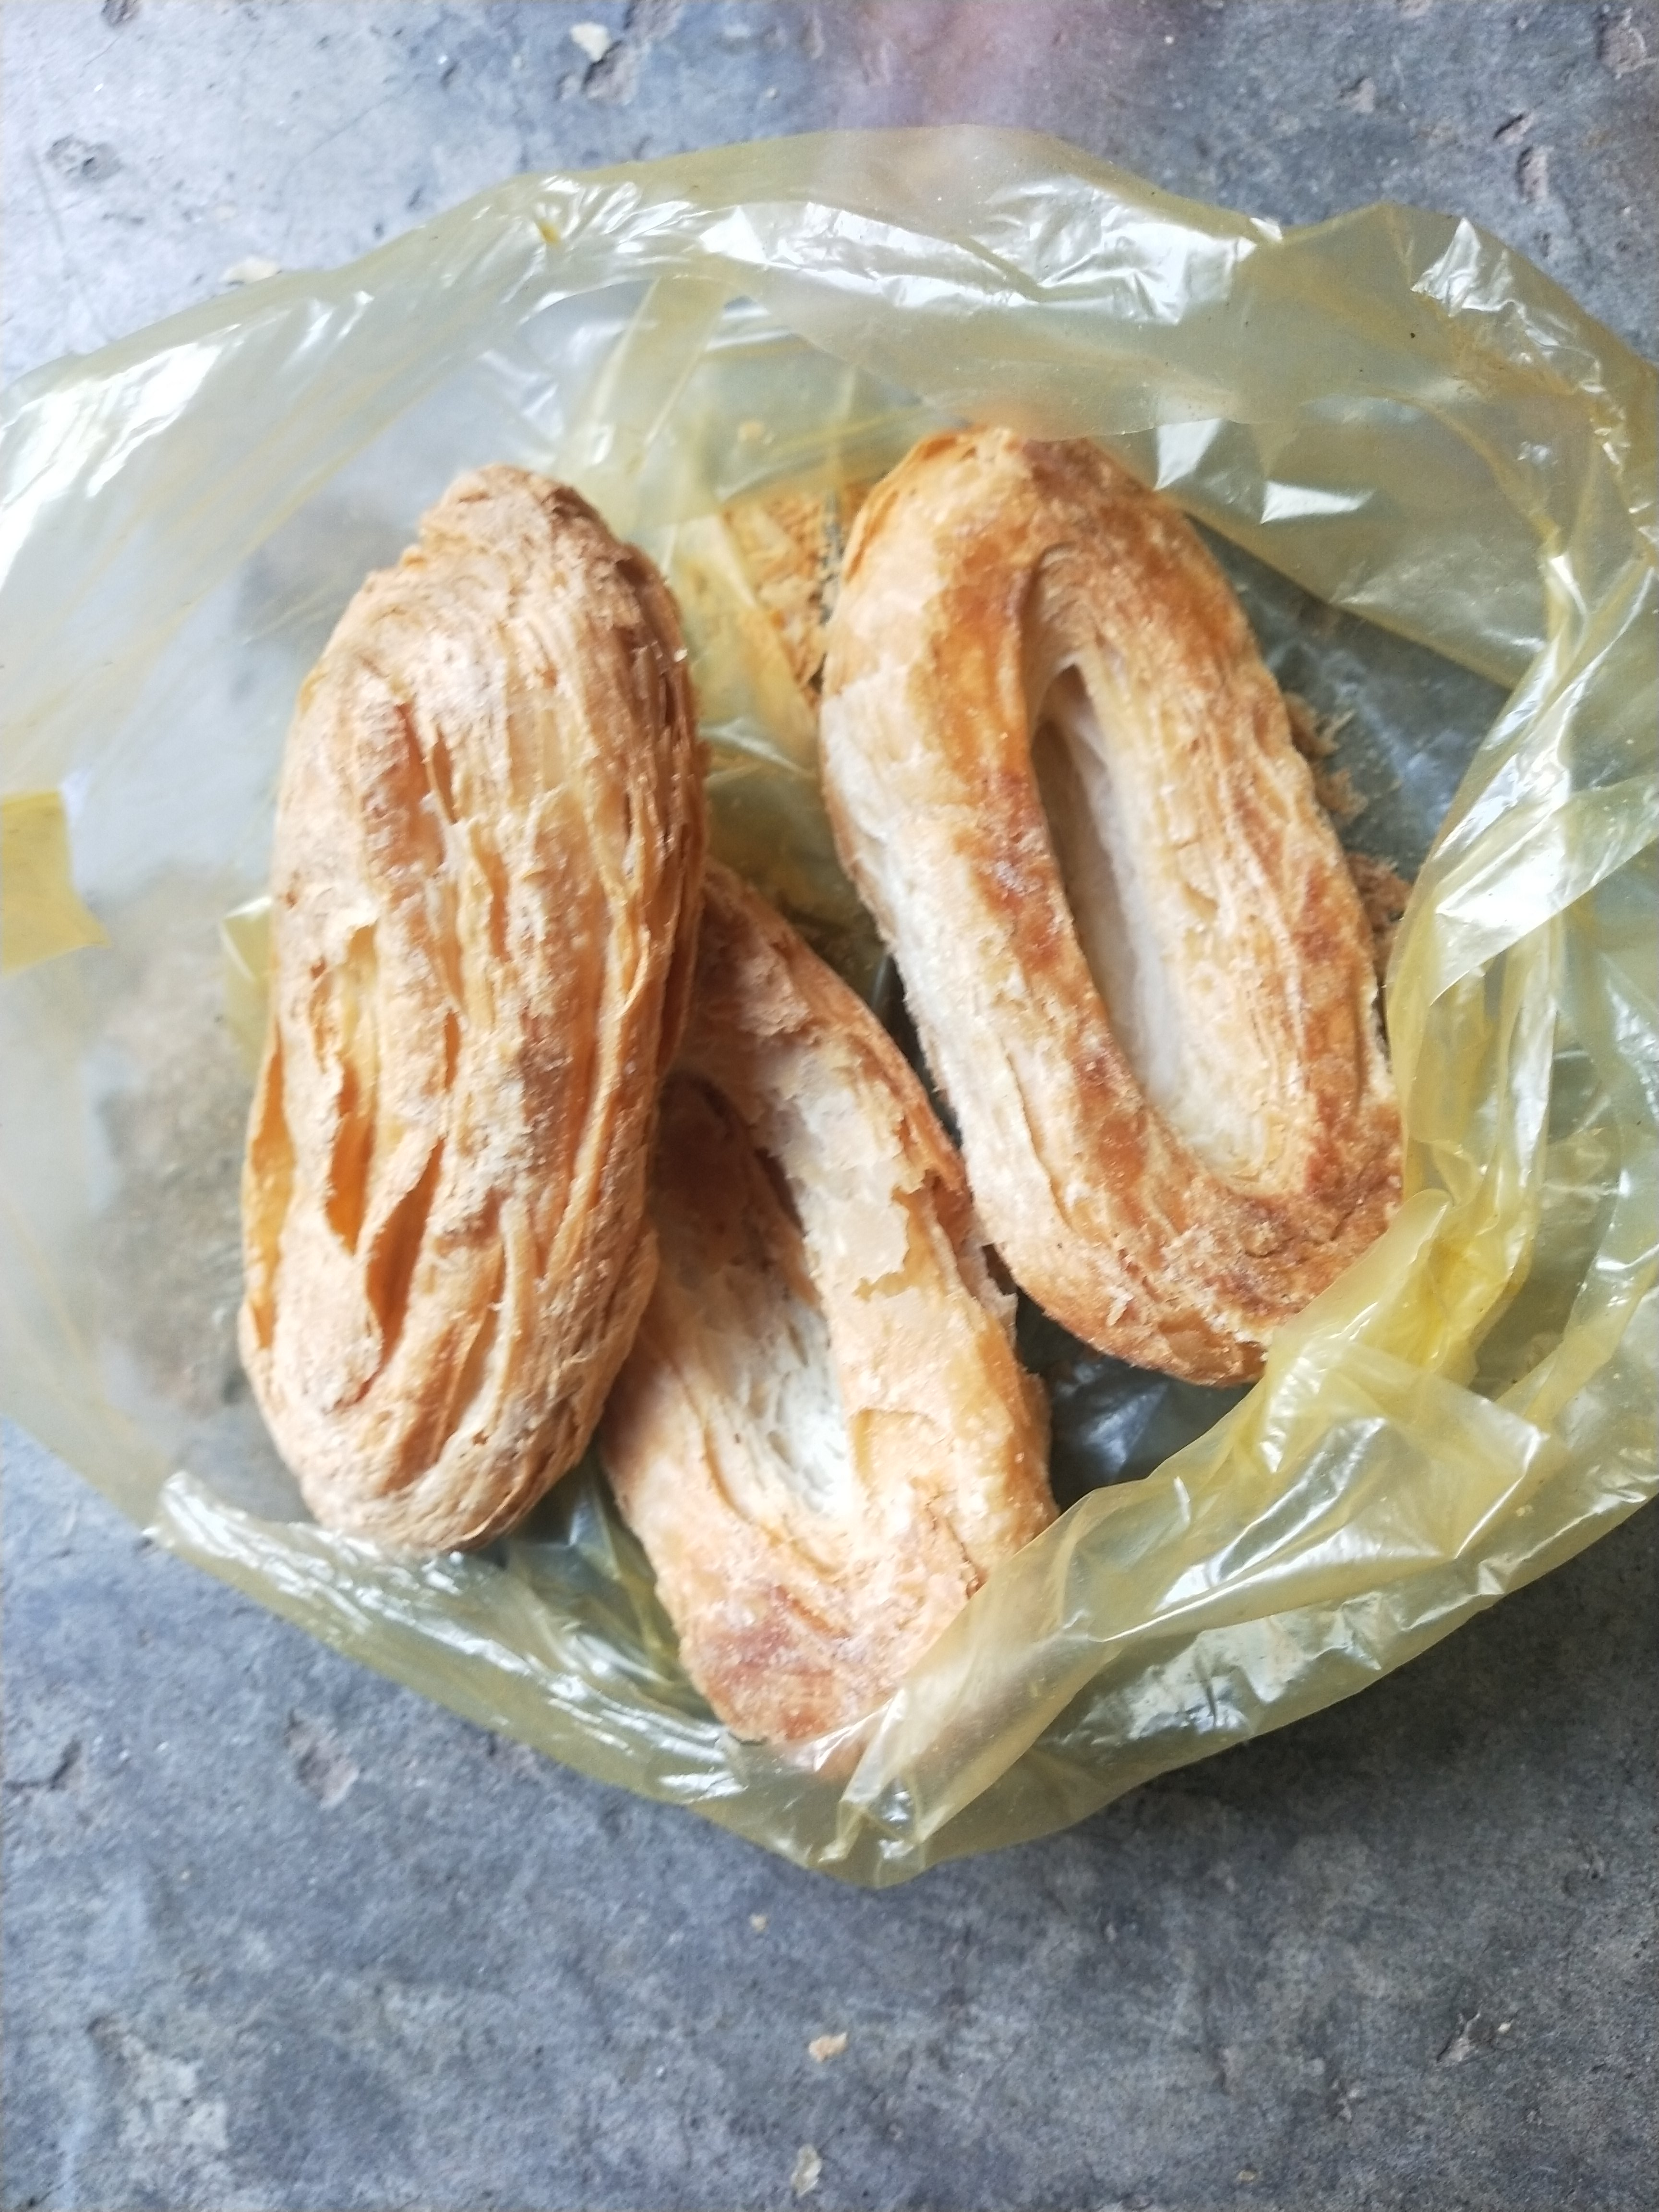food: (216, 411, 1434, 1757)
